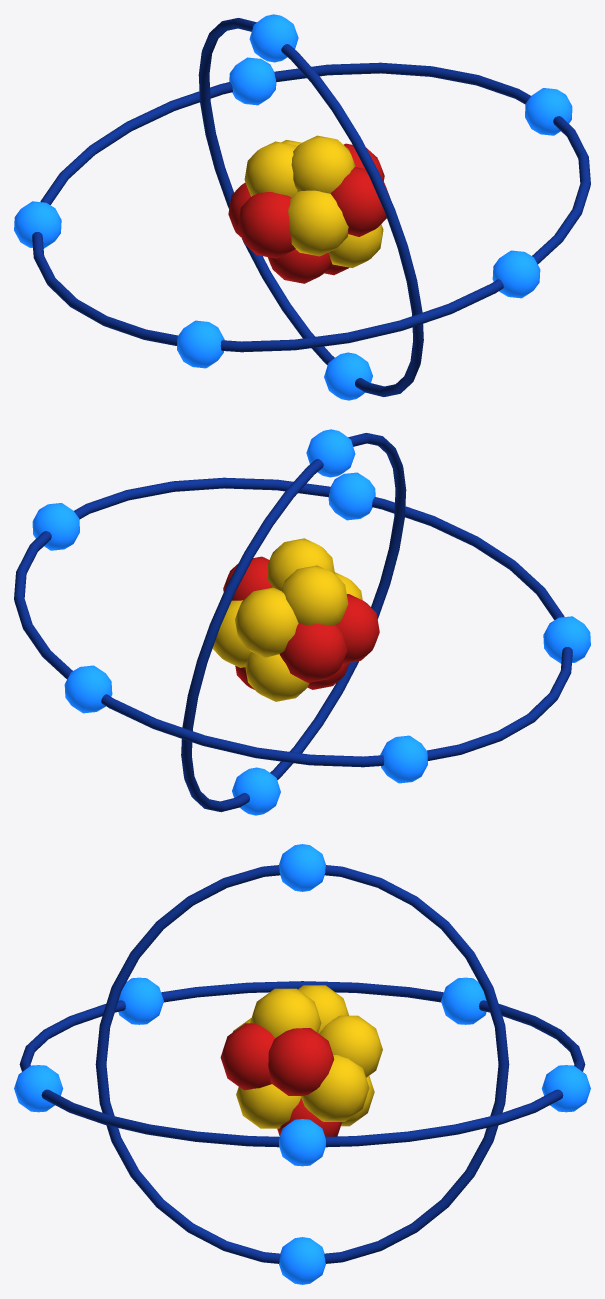
File: Atom_N.fbx
The picture shows the model from 3 angles, top to bottom: view 1: azimuth 30°, elevation 25°; view 2: azimuth 150°, elevation 25°; view 3: azimuth 270°, elevation 25°; orthographic projection.
Visible parts, largest first — view 1: N_Orbit_2, N_Inti_Atom, N_Orbit_1; view 2: N_Orbit_2, N_Inti_Atom, N_Orbit_1; view 3: N_Orbit_2, N_Inti_Atom, N_Orbit_1.
Boxes of the visible parts, x1,y1,x2,y2 form: N_Orbit_2: (14, 57, 590, 368); N_Inti_Atom: (228, 135, 389, 283); N_Orbit_1: (198, 14, 423, 400); N_Orbit_2: (14, 472, 590, 783); N_Inti_Atom: (212, 538, 379, 701); N_Orbit_1: (181, 429, 406, 815); N_Orbit_2: (14, 977, 590, 1166); N_Inti_Atom: (220, 985, 382, 1136); N_Orbit_1: (95, 844, 509, 1284).
Bounding box in the file's own units: 1.29 × 0.983 × 1.29.
